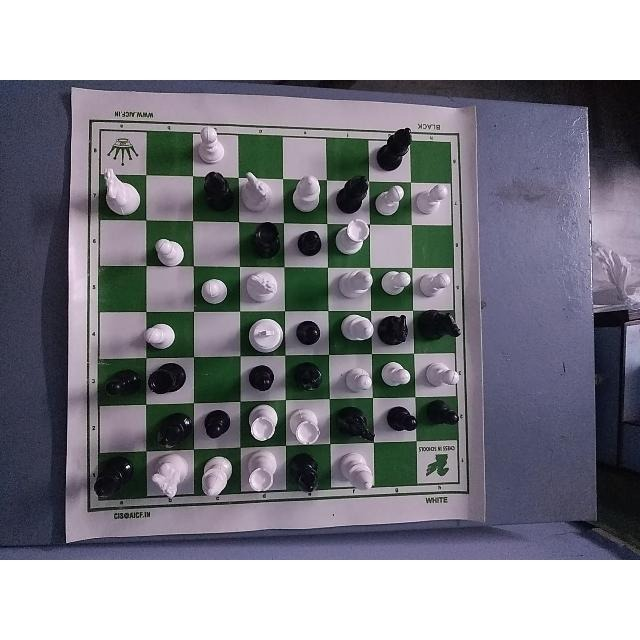black-bishop: (90, 457, 136, 507), (377, 120, 416, 177), (334, 166, 374, 216), (198, 170, 238, 216), (290, 448, 326, 497), (287, 360, 327, 402), (154, 405, 194, 447)
black-knight: (332, 398, 380, 443), (419, 306, 467, 350), (379, 312, 419, 347)
black-pawn: (281, 313, 328, 353), (419, 397, 464, 438), (95, 362, 141, 402), (240, 359, 284, 399), (380, 398, 420, 440), (194, 405, 235, 445), (290, 225, 328, 261)
black-rook: (240, 221, 288, 265), (146, 357, 194, 401)
white-bishop: (331, 444, 385, 496), (196, 452, 236, 504), (331, 266, 376, 310), (286, 172, 325, 220), (333, 313, 379, 351)
white-king: (241, 313, 290, 354)
white-knight: (99, 164, 145, 219), (148, 451, 192, 505), (239, 169, 282, 219), (241, 267, 285, 306)
white-pawn: (144, 234, 194, 268), (378, 351, 416, 395), (412, 178, 453, 218), (192, 124, 228, 168), (142, 315, 180, 356), (192, 275, 232, 313), (375, 268, 415, 306), (415, 268, 455, 304), (423, 362, 464, 394), (339, 362, 375, 397), (373, 183, 409, 216)
white-rook: (279, 401, 331, 448), (240, 452, 284, 499), (240, 403, 285, 446), (333, 219, 375, 260)
